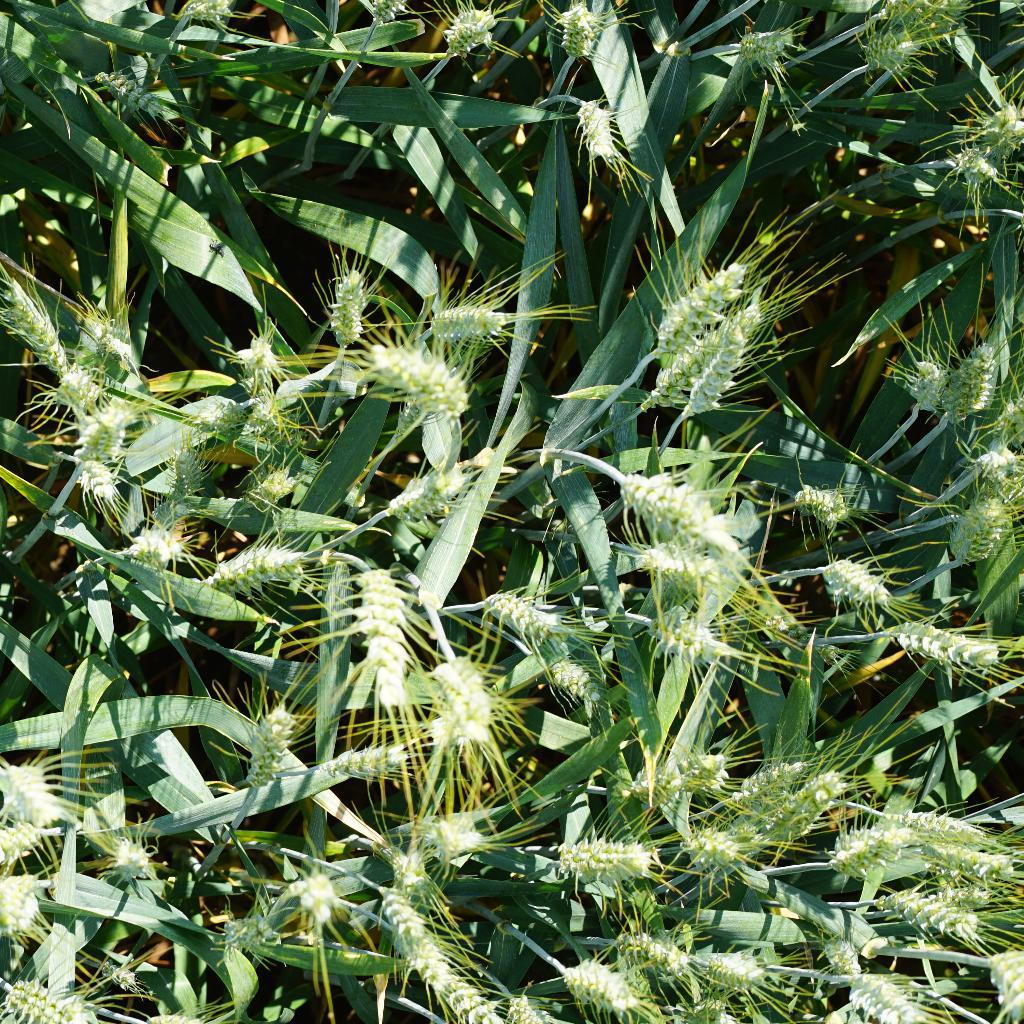0-0: (627, 247, 756, 362), (608, 458, 748, 559), (628, 301, 763, 403), (684, 311, 788, 432), (348, 556, 419, 706), (864, 874, 996, 949), (888, 608, 1015, 684), (370, 340, 477, 421), (205, 530, 316, 605), (557, 93, 647, 185), (870, 780, 991, 847), (408, 945, 510, 1024), (545, 829, 675, 889), (0, 275, 70, 383), (417, 292, 527, 358), (432, 650, 499, 755), (0, 754, 83, 838), (470, 578, 576, 643), (612, 752, 746, 803), (642, 605, 751, 666), (238, 694, 295, 802), (840, 963, 940, 1024), (821, 823, 914, 888), (316, 257, 378, 352), (0, 975, 118, 1024), (75, 313, 156, 384), (370, 464, 475, 518), (58, 453, 145, 518), (84, 62, 176, 123), (531, 643, 613, 709), (717, 18, 800, 83), (950, 494, 1016, 572), (384, 884, 452, 959), (762, 615, 847, 675), (556, 956, 642, 1013), (810, 552, 896, 608), (64, 403, 134, 470), (848, 21, 933, 76), (548, 0, 615, 67), (675, 814, 748, 875), (403, 806, 490, 856), (789, 462, 856, 526), (284, 877, 352, 940), (321, 736, 403, 788), (438, 0, 511, 58), (620, 925, 697, 979), (242, 390, 307, 453), (950, 90, 1023, 146), (45, 376, 116, 432), (758, 757, 829, 813), (894, 346, 952, 414), (101, 830, 169, 888), (115, 520, 180, 578), (956, 337, 1004, 413), (697, 948, 773, 993), (0, 870, 51, 935), (940, 142, 1006, 191), (0, 808, 55, 866), (186, 394, 247, 445), (967, 435, 1024, 489), (210, 916, 285, 957), (243, 464, 301, 516), (167, 436, 210, 503), (815, 928, 864, 985), (142, 492, 198, 537), (167, 0, 243, 33), (238, 335, 284, 381), (92, 957, 149, 993)
